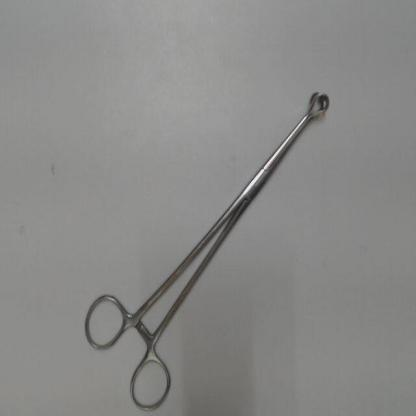8 Babcock Tissue Forceps: (78, 84, 334, 413)
